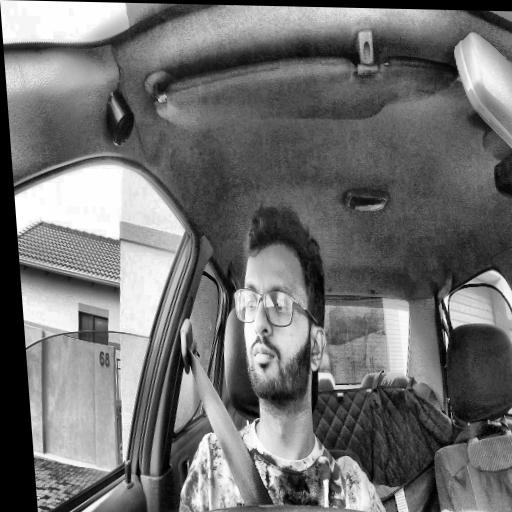awake: (226, 202, 335, 413)
